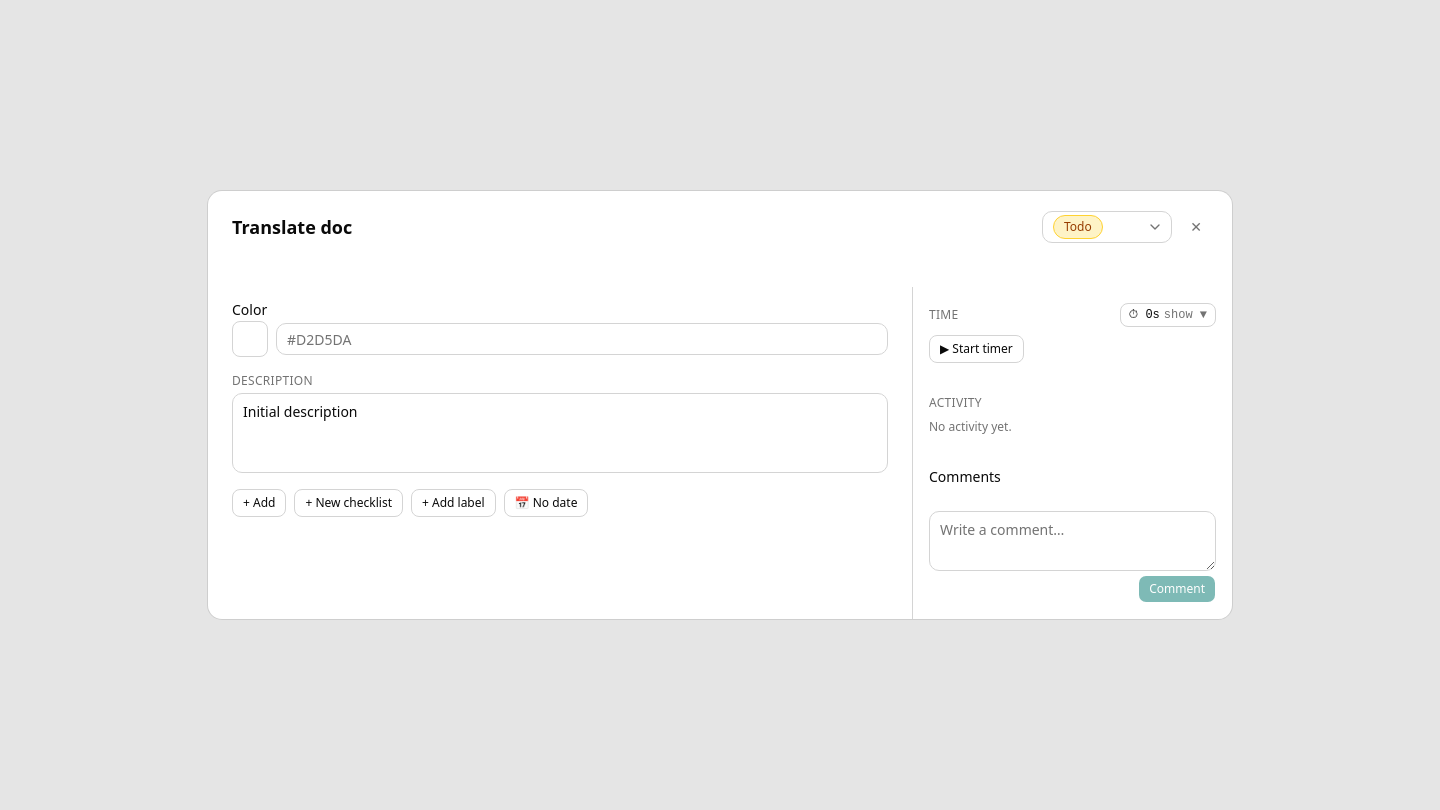
Test: TaskDetailModal › shows a 'Time' toggle that reveals 'No time logged yet.' when opened
The image size is (1440, 810).
Expected: the heading "Translate doc" is shown, [232,213,352,241]
Expected: the text "No time logged yet." is not shown
What coordinates should you click on to do the following:
click the text "show ▼"
I would click on:
 (1185, 315)
Its box is [1164,307,1207,323].
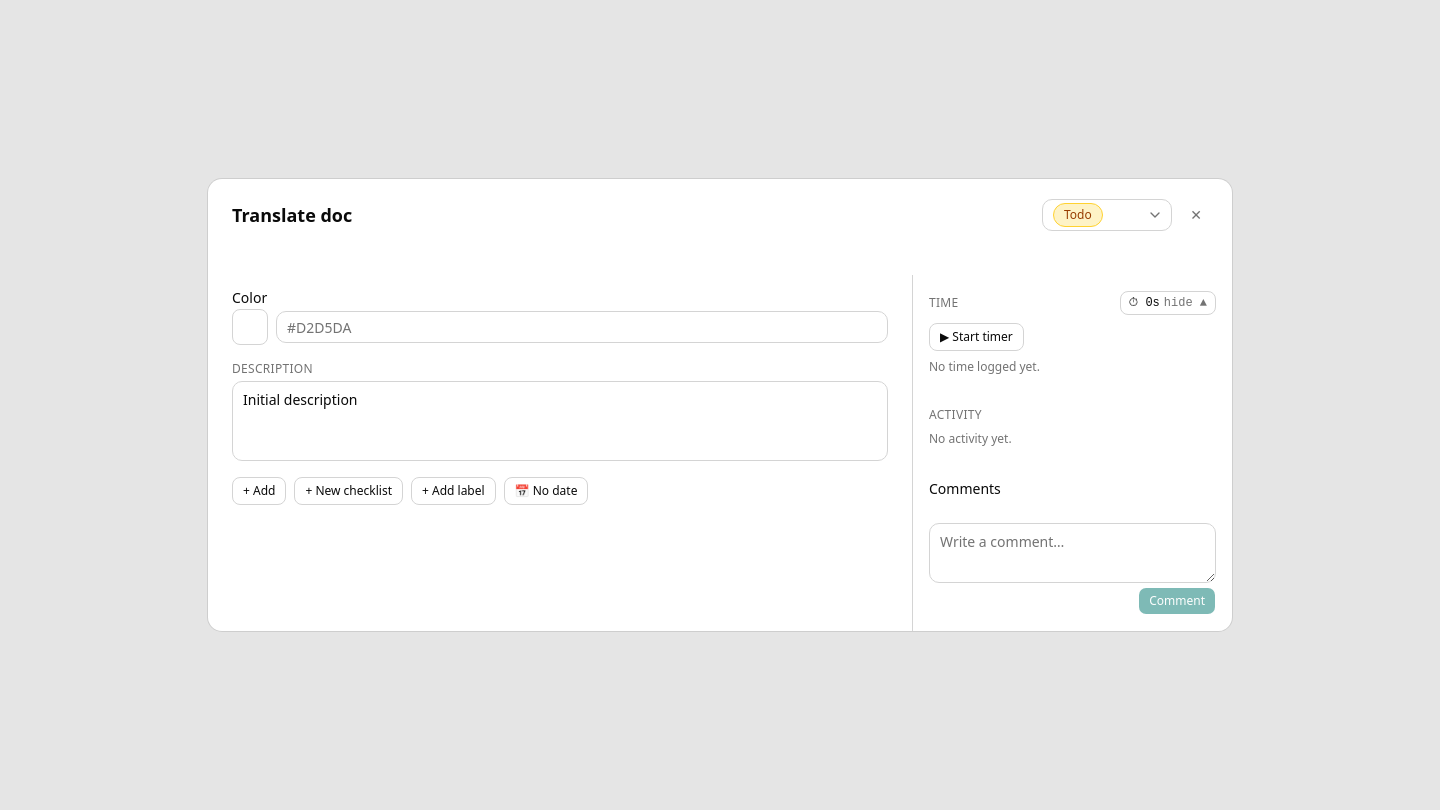
Now the text "No time logged yet." is shown, box [929,358,1040,375]
What coordinates should you click on to do the following:
click the text "hide ▲"
I would click on:
 (1185, 303)
Its box is [1164,295,1207,311].
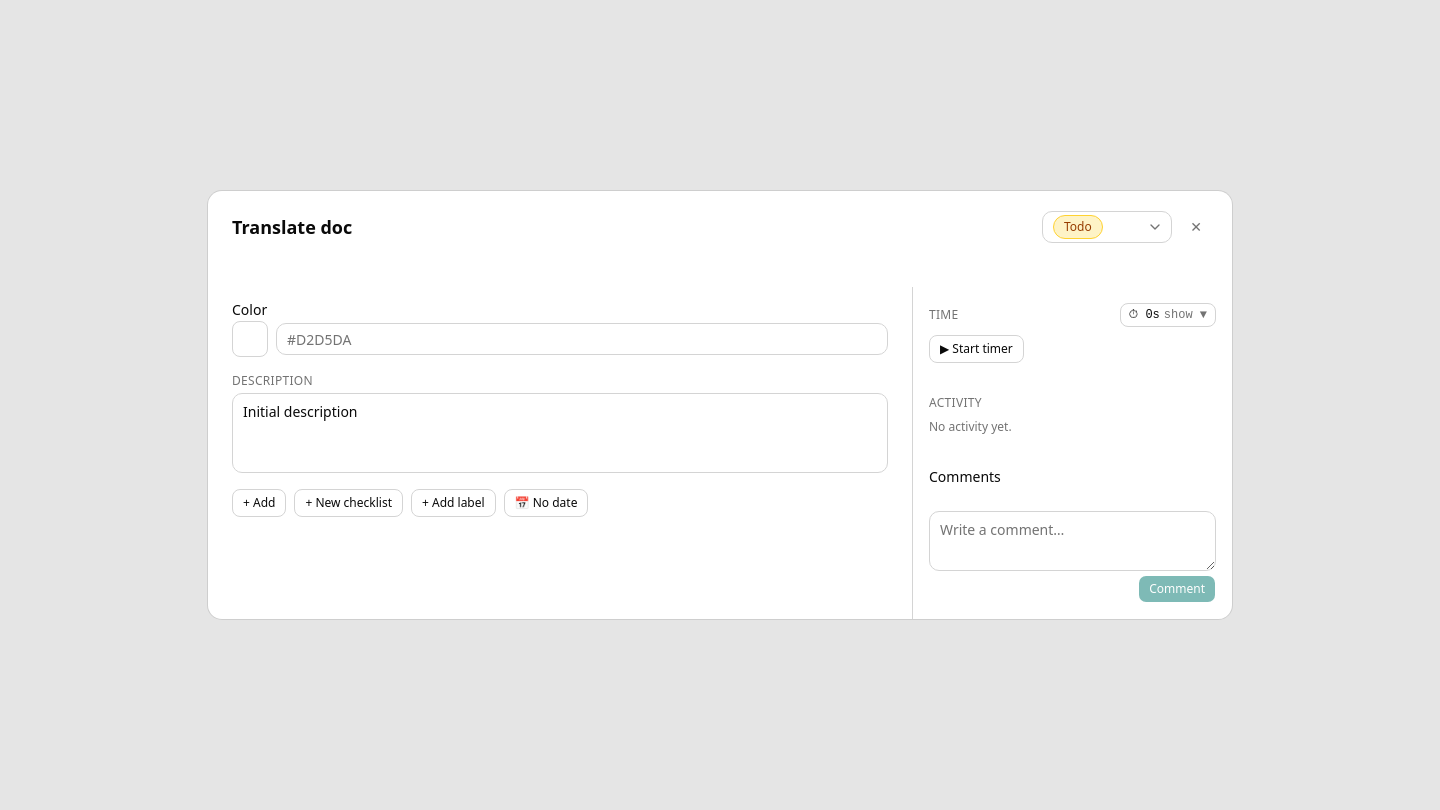
Now the text "No time logged yet." is gone
